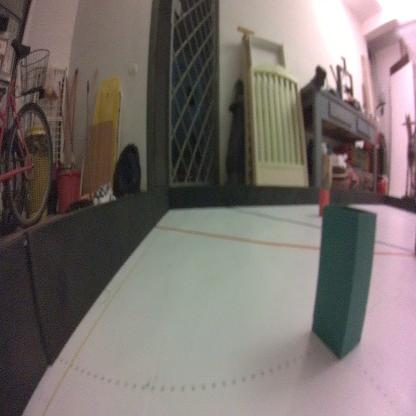green: (307, 202, 379, 362)
red: (318, 187, 329, 216)
